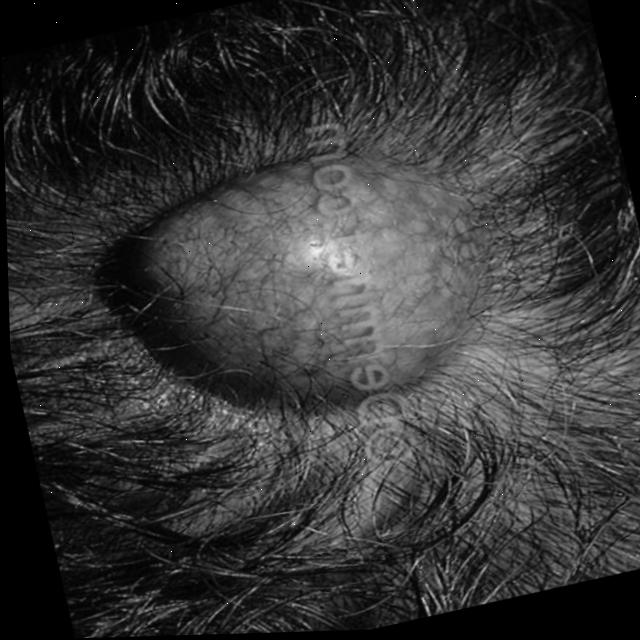Eczema: (134, 122, 514, 453)
